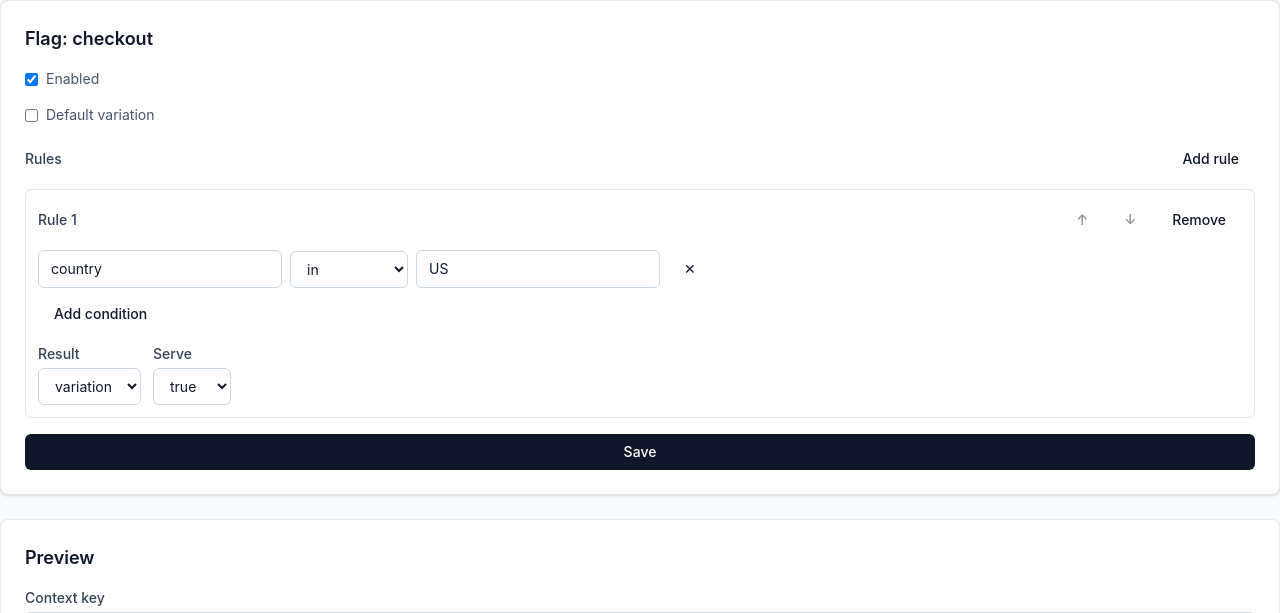
Scenario: FlagEditorRoute › shows an inline rule error (not a global banner) on CURIOUS_CAT
This screenshot has width=1280, height=613.
Expected: the checkbox labelled "Enabled" is shown, 25,72 -> 38,86
Edit rule 1 so it becomes the "last edited" (and thus offending) rule.
Select "false" in the dropdown named "Rule 1 variation": (192, 386) 153,368 -> 231,405
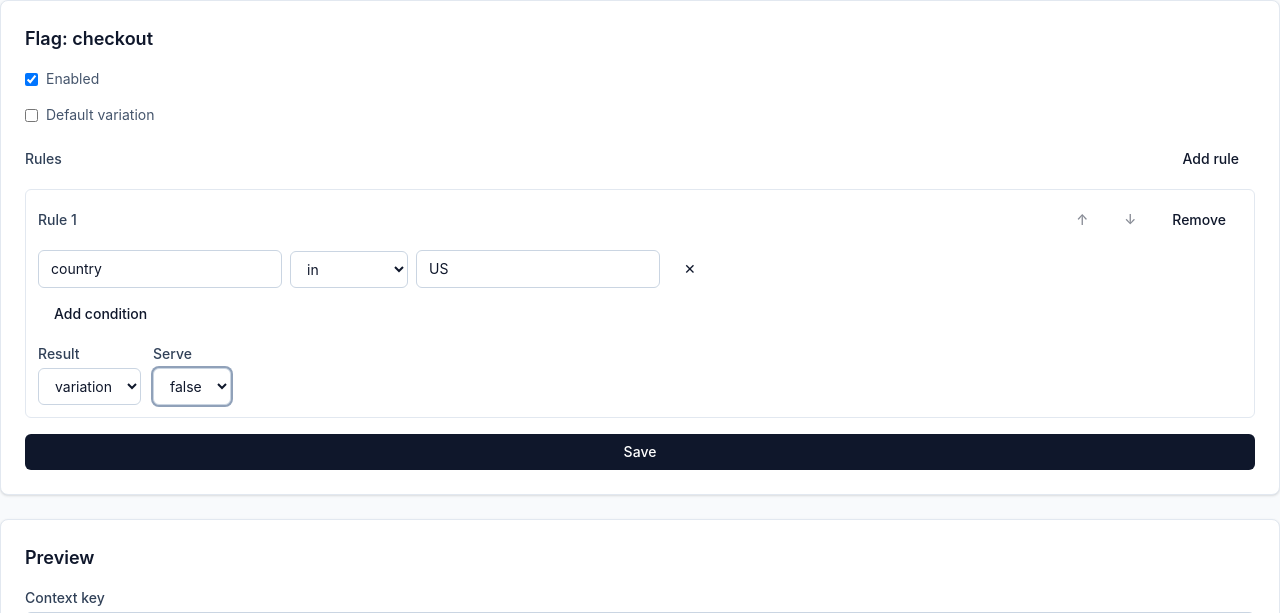
Click the button "Save": (640, 452) 25,434 -> 1255,470
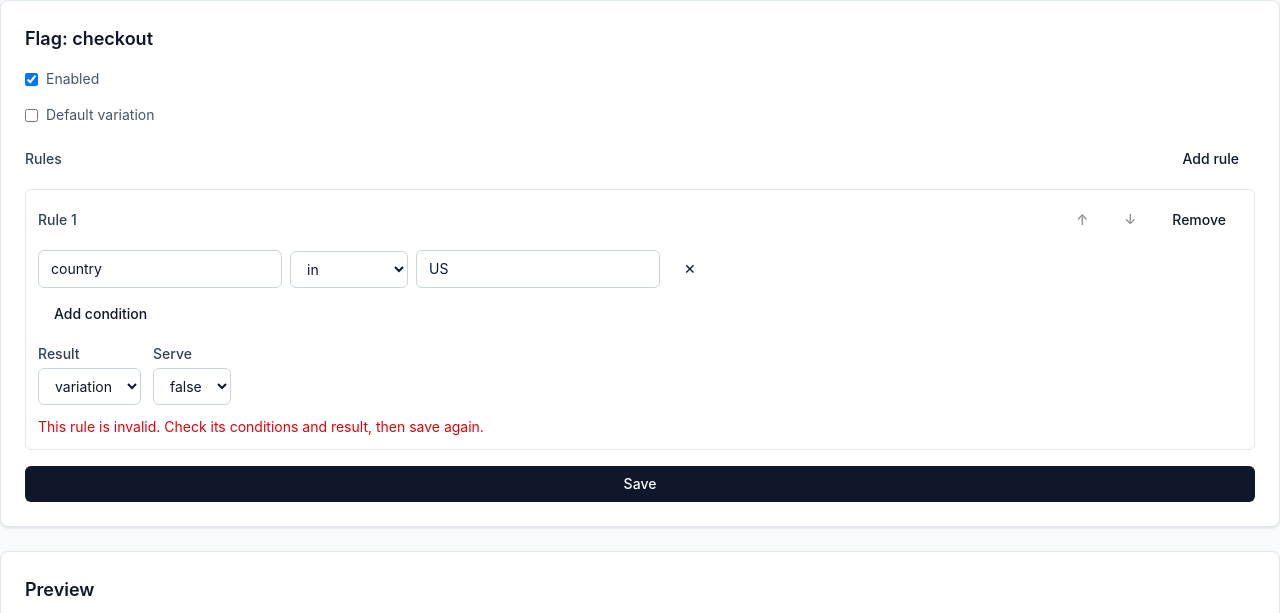
Result: the text "This rule is invalid. Check its conditions and result, then save again." is shown at 38,418 -> 484,435
